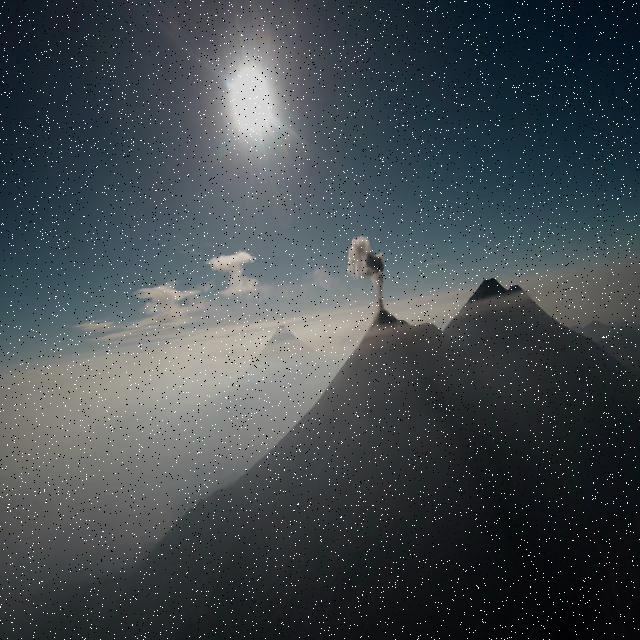Plume: (346, 226, 392, 308)
Summit: (357, 308, 449, 347)
